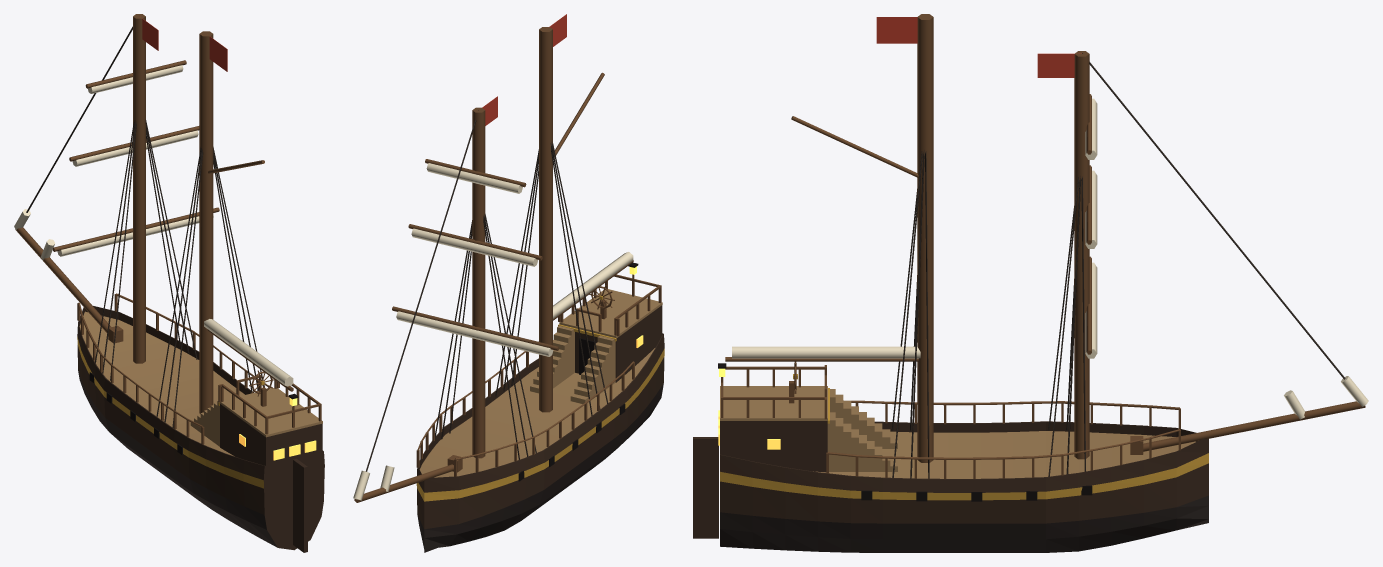
File: sawyer_ship_brigantine_furled.glb
3 views of the same model, side by side, from view 1: azimuth 30°, elevation 25°; view 2: azimuth 150°, elevation 25°; view 3: azimuth 270°, elevation 25° (orthographic). The views are drawn at different scales.
Visible parts, largest first — view 1: hull, mast1, mast0, cabin_walls, cabin_roof, rudder, furl_main1, bowsprit, furl_sq0_0, furl_sq0_1, yard0_0, furl_sq0_2 (+16 smaller); view 2: hull, mast1, mast0, cabin_roof, cabin_walls, furl_sq0_0, furl_sq0_1, furl_main1, furl_sq0_2, forestay, yard0_0, bowsprit (+12 smaller); view 3: hull, mast1, mast0, cabin_walls, cabin_roof, rudder, furl_main1, bowsprit, flag1, forestay, flag0.
Boxes of the visible parts, x1,y1,x2,y2 form: hull: [77, 306, 324, 550]; mast1: [199, 31, 213, 413]; mast0: [133, 14, 145, 363]; cabin_walls: [220, 404, 322, 480]; cabin_roof: [219, 388, 322, 437]; rudder: [293, 458, 307, 552]; furl_main1: [204, 319, 293, 386]; bowsprit: [15, 227, 111, 333]; furl_sq0_0: [57, 216, 213, 256]; furl_sq0_1: [72, 130, 198, 166]; yard0_0: [52, 207, 219, 251]; furl_sq0_2: [88, 65, 183, 93]; hull: [416, 333, 664, 552]; mast1: [539, 27, 552, 412]; mast0: [472, 107, 485, 458]; cabin_roof: [559, 289, 662, 338]; cabin_walls: [575, 305, 662, 382]; furl_sq0_0: [396, 311, 553, 356]; furl_sq0_1: [411, 228, 537, 266]; furl_main1: [553, 252, 633, 318]; furl_sq0_2: [426, 163, 522, 193]; forestay: [365, 110, 478, 471]; yard0_0: [392, 306, 559, 350]; bowsprit: [354, 464, 453, 502]; hull: [720, 421, 1208, 552]; mast1: [917, 14, 933, 462]; mast0: [1074, 51, 1089, 459]; cabin_walls: [720, 421, 827, 472]; cabin_roof: [720, 386, 827, 420]; rudder: [693, 437, 718, 538]; furl_main1: [732, 346, 920, 358]; bowsprit: [1143, 401, 1365, 451]; flag1: [876, 17, 917, 43]; forestay: [1082, 53, 1345, 379]; flag0: [1037, 53, 1081, 77].
Bounding box in the file's own units: 10 × 26.2 × 30.4.
